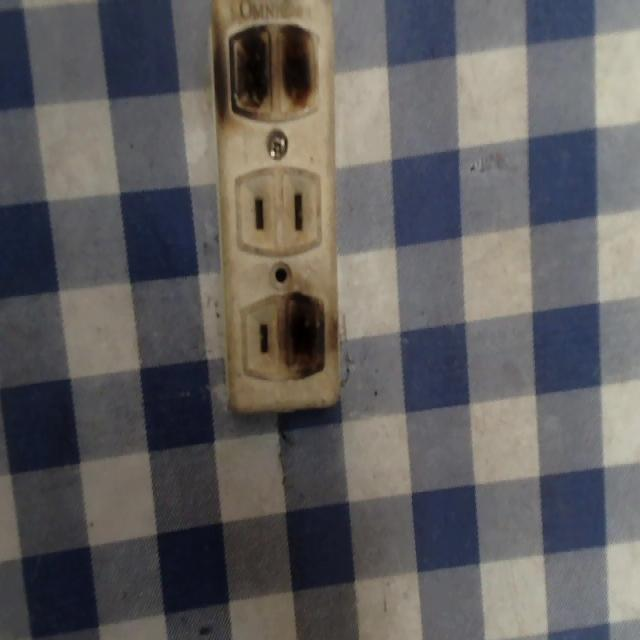-: (209, 16, 329, 129), (279, 285, 337, 380)
